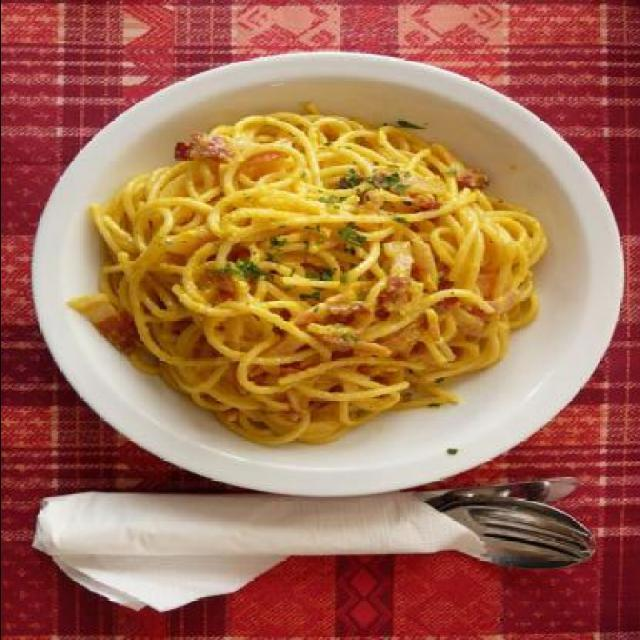Pasta with carbonara sauce: (43, 66, 574, 489)
